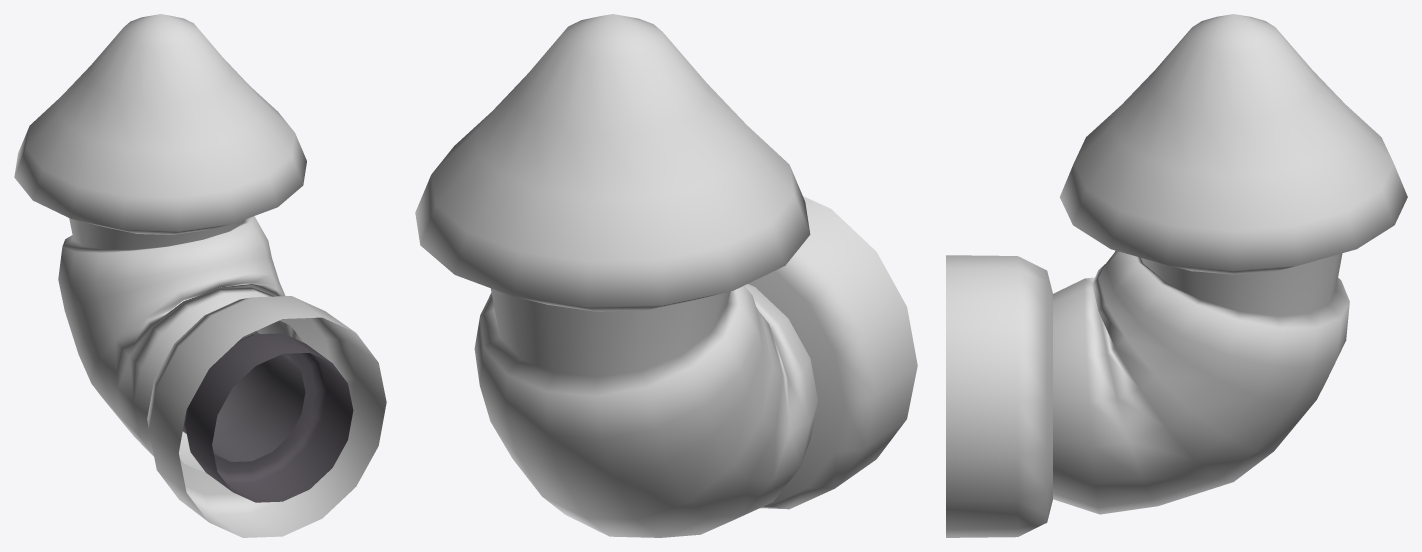
The model's file is furnace_upg1.fbx.
The picture shows the model from 3 angles, left to right: view 1: azimuth 30°, elevation 25°; view 2: azimuth 150°, elevation 25°; view 3: azimuth 270°, elevation 25°; orthographic projection. The views are drawn at different scales.
Visible parts, largest first — view 1: furnace_upg1; view 2: furnace_upg1; view 3: furnace_upg1.
Part boxes in pixels (x1,y1,x2,y2): furnace_upg1: (14, 14, 386, 537); furnace_upg1: (415, 14, 917, 537); furnace_upg1: (946, 14, 1407, 537).
Size of the model in its own units: 38.41 by 62.18 by 50.94.
